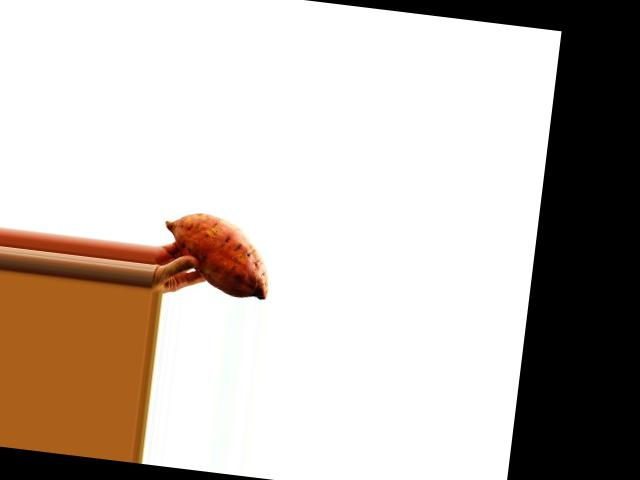sweet_potato: (161, 202, 279, 304)
